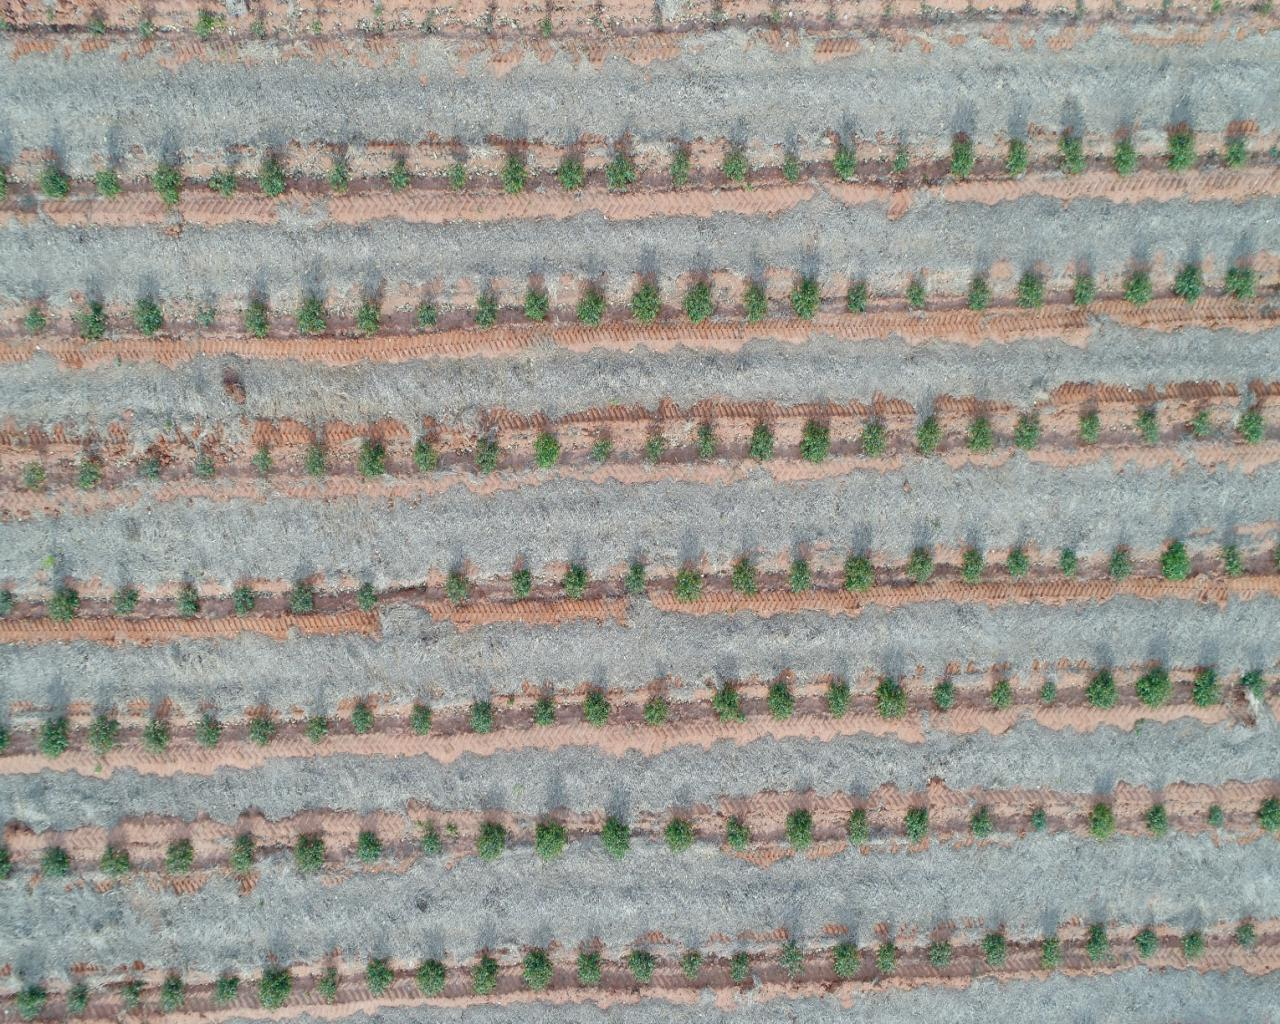Tree: (572, 286, 606, 325), (766, 680, 799, 720), (254, 156, 286, 196), (557, 155, 589, 194), (713, 689, 748, 724), (630, 285, 660, 326), (822, 684, 858, 719), (606, 154, 635, 193), (792, 279, 821, 319), (829, 147, 863, 181), (740, 282, 768, 323), (133, 298, 163, 334), (876, 685, 906, 722), (292, 838, 322, 875), (152, 168, 182, 204), (1174, 264, 1204, 301), (1140, 667, 1167, 705), (358, 444, 391, 476), (1243, 665, 1269, 706), (951, 136, 974, 181), (688, 284, 713, 325), (163, 839, 195, 870), (261, 975, 288, 1011), (75, 305, 106, 338), (732, 559, 762, 592), (298, 300, 326, 334), (1088, 671, 1115, 706), (1088, 925, 1115, 960), (479, 823, 506, 859), (247, 299, 269, 343), (474, 437, 501, 473), (786, 810, 813, 844), (501, 155, 525, 193), (386, 160, 411, 196), (1161, 542, 1190, 574), (527, 950, 549, 992), (641, 698, 673, 726), (474, 292, 497, 331), (628, 949, 653, 984), (356, 827, 379, 865), (965, 277, 993, 309), (721, 150, 748, 182), (1133, 408, 1160, 439), (418, 960, 444, 993), (523, 289, 549, 323), (40, 722, 65, 755), (602, 819, 626, 854), (834, 944, 858, 978), (844, 560, 874, 588), (1040, 935, 1062, 973), (157, 981, 185, 1010), (330, 156, 351, 194), (1111, 550, 1135, 583), (1220, 546, 1244, 580), (965, 418, 993, 447), (533, 437, 562, 464), (355, 303, 381, 333), (364, 962, 390, 993), (752, 423, 773, 461), (233, 835, 255, 870), (785, 560, 808, 594), (913, 421, 941, 448), (723, 816, 750, 844), (51, 591, 77, 621), (210, 170, 240, 195), (845, 278, 867, 312), (1169, 135, 1191, 169), (1060, 138, 1083, 170), (694, 422, 717, 455), (471, 960, 494, 993), (194, 716, 220, 744), (315, 972, 341, 1000), (1020, 275, 1042, 308), (1016, 417, 1041, 446), (669, 152, 688, 190), (423, 828, 445, 859), (1070, 277, 1096, 303), (561, 565, 586, 592), (1006, 142, 1027, 174), (410, 707, 433, 737), (1091, 806, 1113, 836), (982, 933, 1004, 963), (805, 425, 825, 457), (1240, 415, 1264, 442), (666, 821, 690, 848), (778, 156, 801, 184), (907, 277, 926, 311), (415, 442, 438, 470), (907, 555, 930, 583), (1058, 549, 1080, 578), (1005, 551, 1026, 581), (94, 169, 119, 194), (906, 809, 925, 842), (677, 573, 700, 600), (577, 953, 597, 984), (252, 717, 274, 745), (1261, 795, 1279, 830), (541, 827, 562, 856), (861, 425, 885, 450), (929, 939, 952, 965), (40, 172, 67, 194), (119, 981, 141, 1008), (93, 718, 111, 751), (1080, 413, 1100, 442), (992, 680, 1011, 709), (1136, 930, 1159, 955), (1116, 141, 1135, 171), (307, 448, 328, 475), (876, 945, 897, 972), (1148, 805, 1168, 833), (1230, 272, 1253, 296), (350, 707, 372, 732), (962, 549, 982, 576), (1196, 669, 1210, 708), (233, 590, 256, 613), (779, 948, 802, 971), (623, 567, 645, 591), (292, 586, 312, 611), (143, 724, 164, 749), (22, 993, 42, 1019), (1128, 276, 1149, 300), (470, 706, 491, 730), (933, 682, 954, 706), (78, 463, 97, 489), (1227, 139, 1244, 166), (583, 701, 607, 721), (850, 813, 868, 838), (446, 576, 466, 599), (513, 571, 530, 598), (1190, 412, 1209, 436), (534, 701, 555, 722), (732, 954, 749, 980), (1, 841, 11, 883), (971, 809, 988, 833), (25, 313, 45, 334), (47, 854, 66, 876), (421, 301, 437, 327), (25, 462, 43, 485), (254, 448, 272, 470), (358, 586, 376, 608), (64, 990, 82, 1011), (307, 718, 324, 741), (1187, 932, 1202, 958), (103, 854, 124, 871), (450, 163, 464, 190), (682, 954, 699, 976), (649, 436, 662, 462), (1, 591, 15, 618), (1236, 927, 1255, 946), (590, 442, 614, 457), (891, 152, 908, 172), (1208, 805, 1226, 823), (197, 457, 214, 476), (1043, 684, 1058, 705), (200, 304, 213, 326), (118, 594, 135, 610), (182, 596, 196, 613), (144, 463, 159, 479), (219, 980, 231, 998), (1, 727, 8, 754), (1032, 811, 1045, 827)
